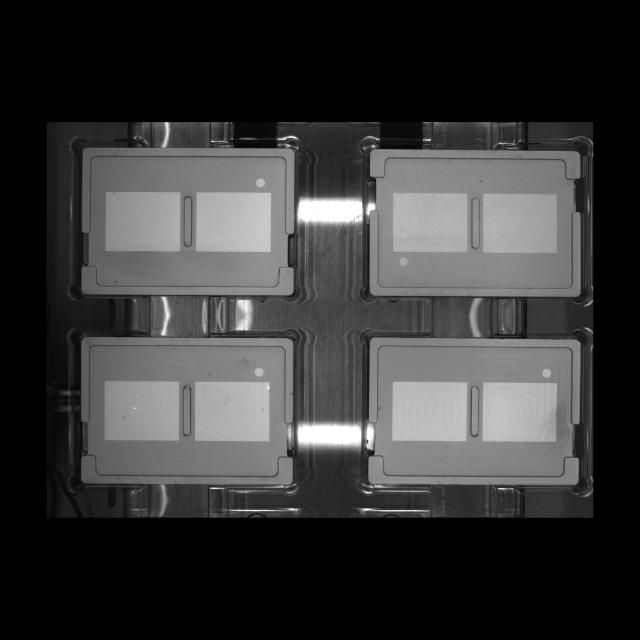product: (65, 322, 303, 495), (357, 327, 592, 499), (67, 135, 307, 303), (359, 134, 591, 304)
